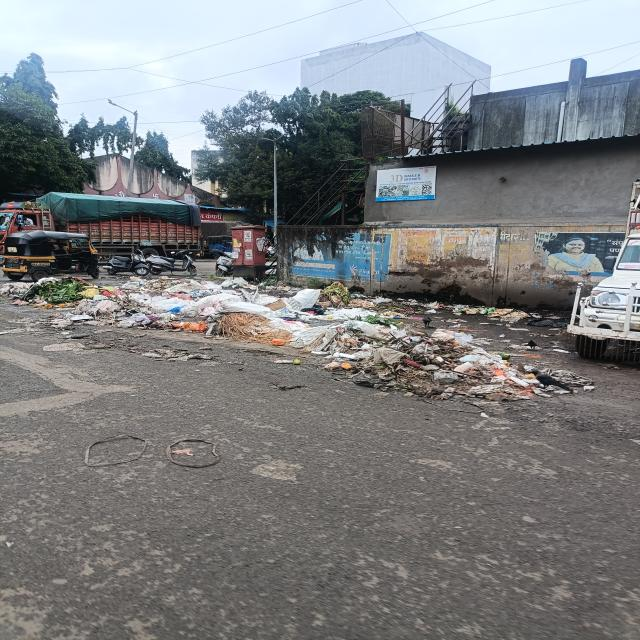garbage: (6, 280, 376, 338), (345, 322, 577, 399), (383, 299, 530, 320)
